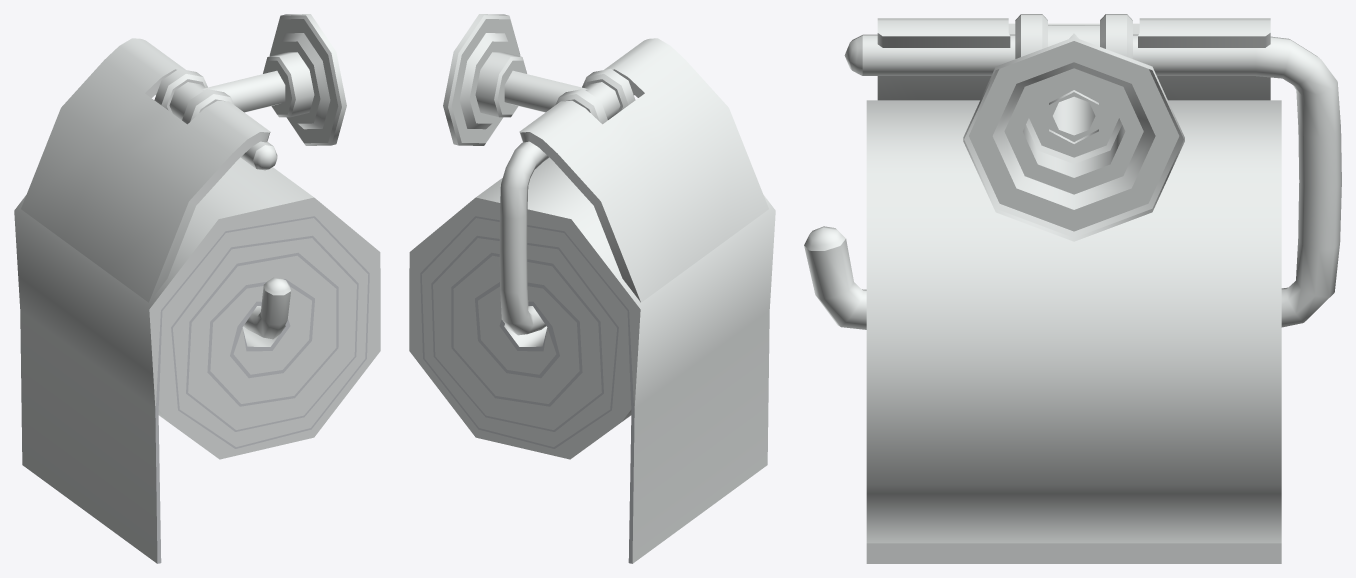
File: Toilet_paper.fbx
3 views of the same model, side by side, from view 1: azimuth 30°, elevation 25°; view 2: azimuth 150°, elevation 25°; view 3: azimuth 270°, elevation 25° (orthographic). The views are drawn at different scales.
Visible parts, largest first — view 1: Toilet_paper; view 2: Toilet_paper; view 3: Toilet_paper.
Part boxes in pixels (x1,y1,x2,y2): Toilet_paper: (14,14,380,563); Toilet_paper: (409,14,775,563); Toilet_paper: (804,14,1341,563).
Bounding box in the file's own units: 0.1749 × 0.3224 × 0.2292.
